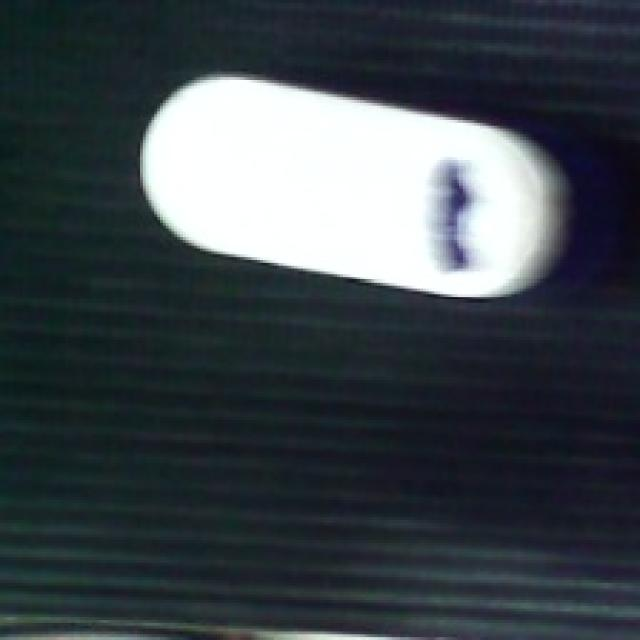defected: (137, 69, 583, 297)
